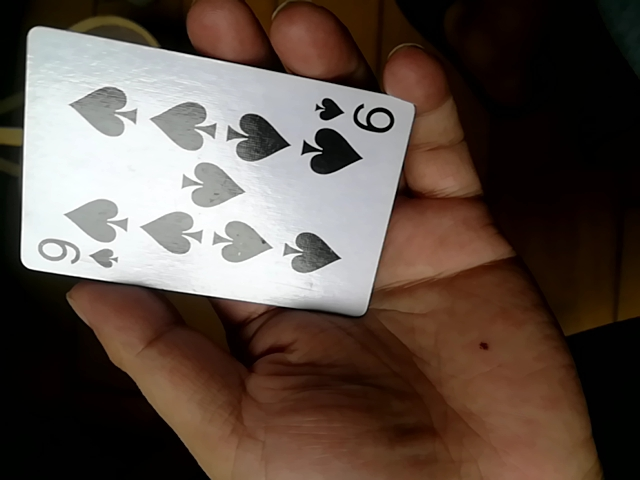ht 9: (21, 31, 417, 321)
